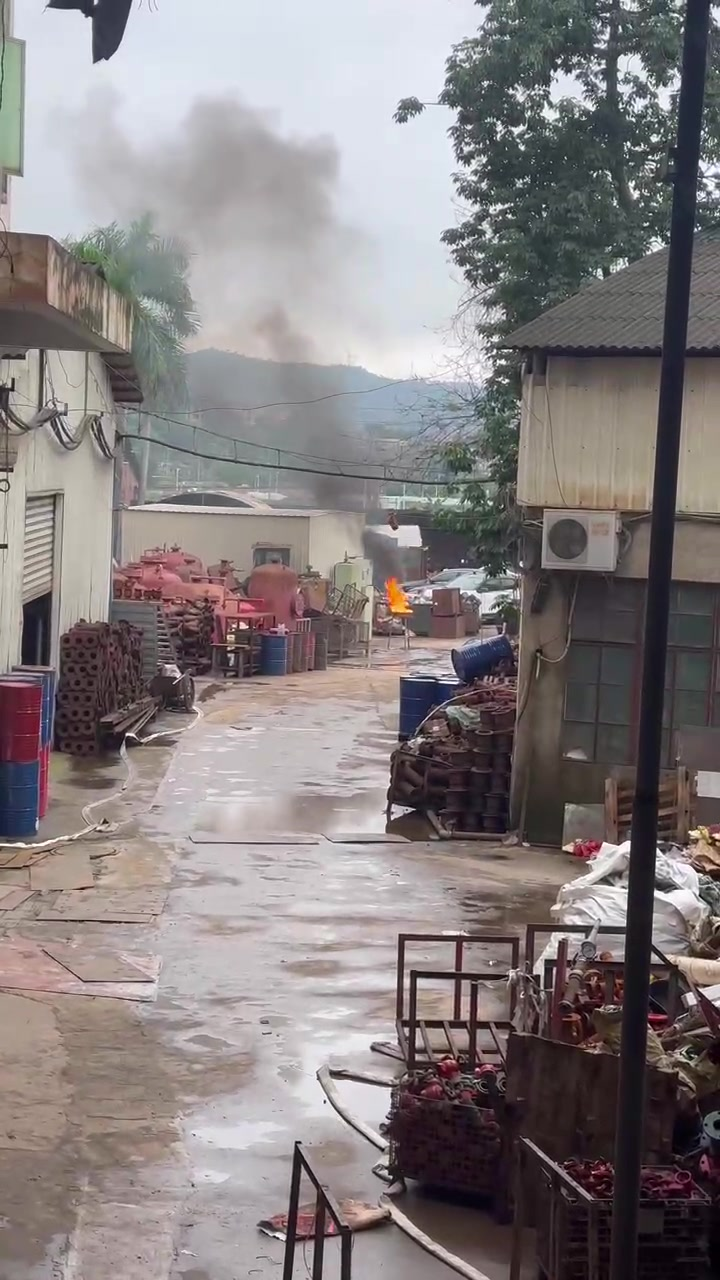fire: (383, 577, 412, 612)
